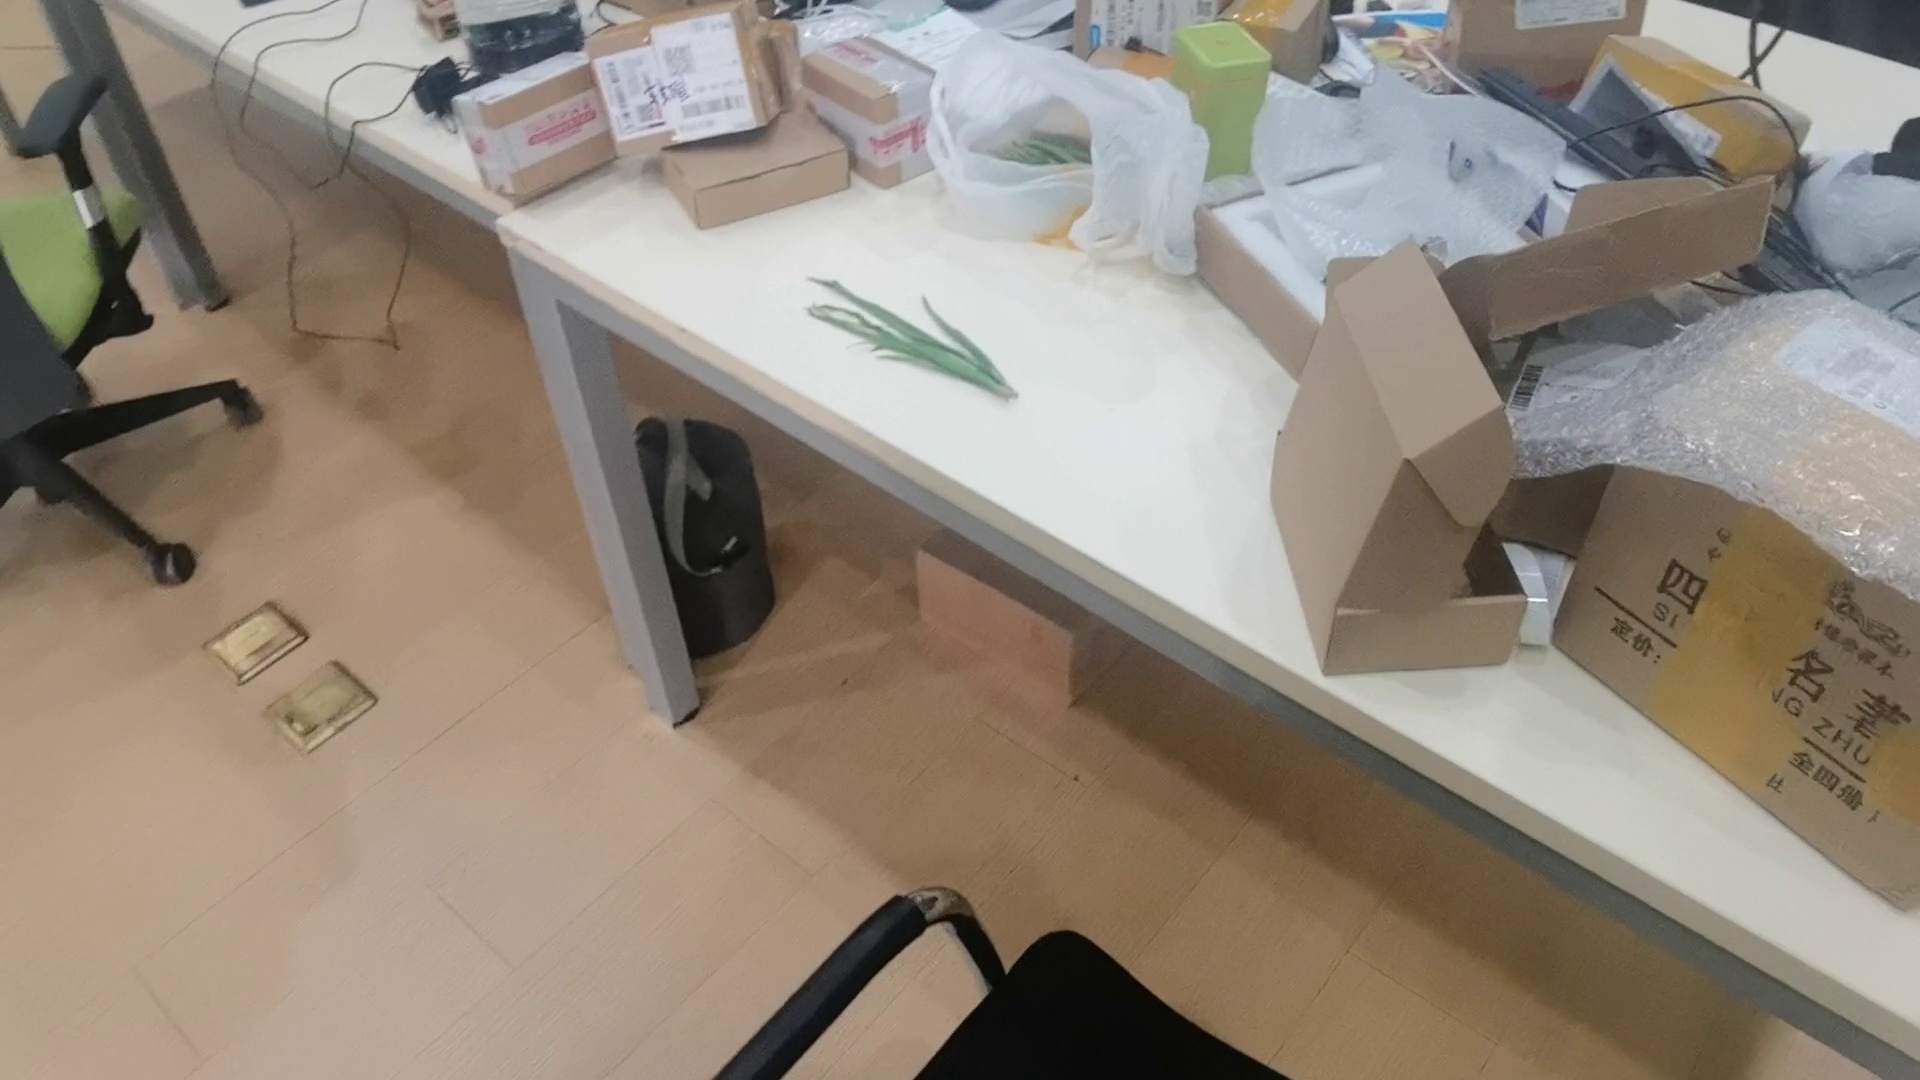chives: (796, 266, 1023, 411)
